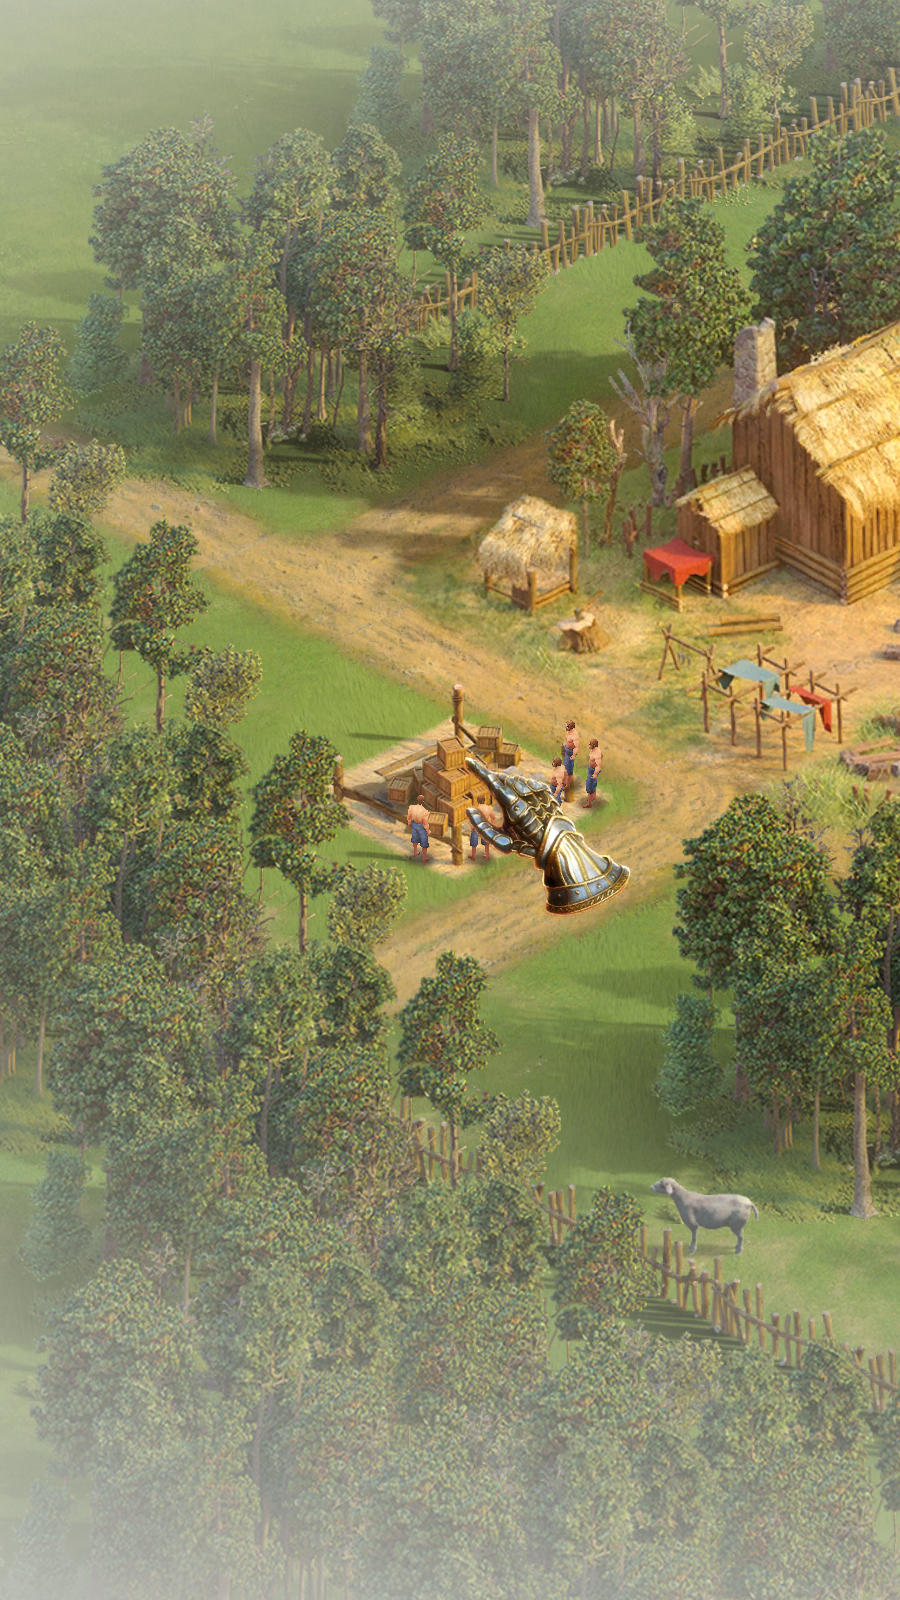border: (410, 55, 893, 313)
hand: (463, 749, 641, 918)
trees: (675, 779, 900, 1181), (73, 1108, 305, 1442), (123, 144, 353, 467), (327, 1297, 629, 1499), (118, 816, 248, 1037), (100, 522, 226, 736)
